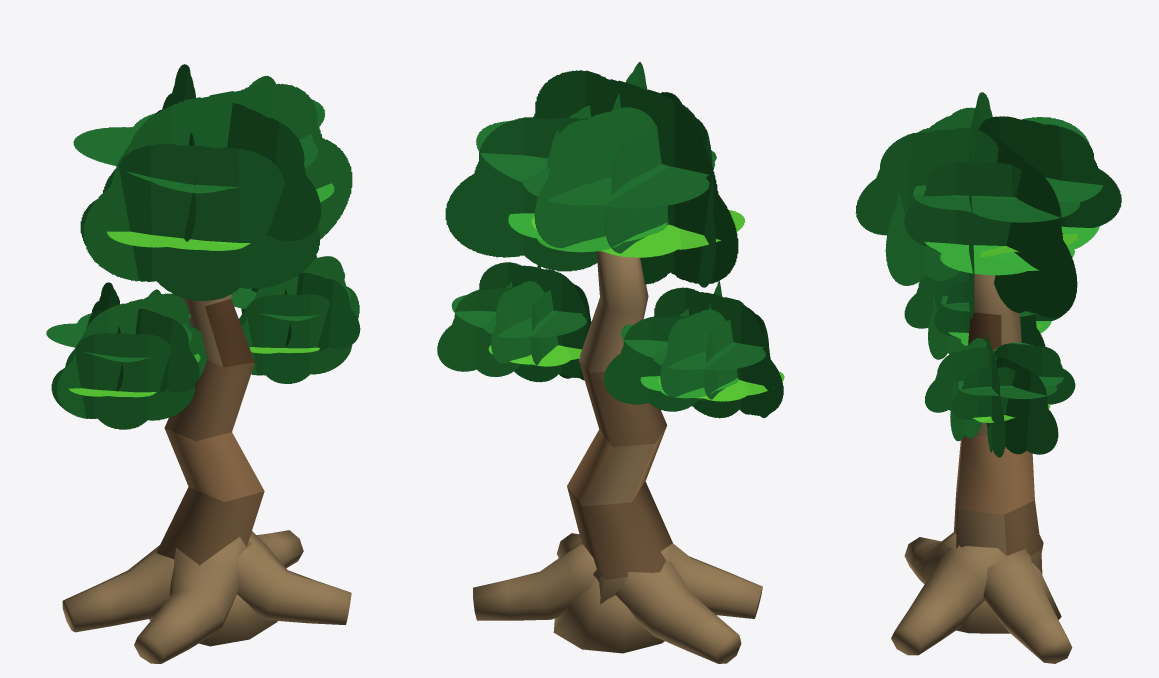
The model's file is TREE_EUCALYPTUS_001_v015_LOD_MAP.glb.
3 views of the same model, side by side, from view 1: azimuth 30°, elevation 25°; view 2: azimuth 150°, elevation 25°; view 3: azimuth 270°, elevation 25° (orthographic). The views are drawn at different scales.
Parts seen in each view (by area): view 1: TREE_EUCALYPTUS_001_MAP_AUTHORED_FOLIAGE_ISLANDS, TREE_EUCALYPTUS_001_MAP_MAIN_TRUNK, TREE_EUCALYPTUS_001_MAP_ROOT_FRONT_LEFT, TREE_EUCALYPTUS_001_MAP_ROOT_FRONT_RIGHT, TREE_EUCALYPTUS_001_MAP_ROOT_LONG_LEFT, TREE_EUCALYPTUS_001_MAP_SCULPTED_ROOT_COLLAR, TREE_EUCALYPTUS_001_MAP_ROOT_RIGHT_SIDE; view 2: TREE_EUCALYPTUS_001_MAP_AUTHORED_FOLIAGE_ISLANDS, TREE_EUCALYPTUS_001_MAP_MAIN_TRUNK, TREE_EUCALYPTUS_001_MAP_ROOT_LONG_LEFT, TREE_EUCALYPTUS_001_MAP_ROOT_RIGHT_SIDE, TREE_EUCALYPTUS_001_MAP_SCULPTED_ROOT_COLLAR, TREE_EUCALYPTUS_001_MAP_ROOT_FRONT_LEFT; view 3: TREE_EUCALYPTUS_001_MAP_AUTHORED_FOLIAGE_ISLANDS, TREE_EUCALYPTUS_001_MAP_MAIN_TRUNK, TREE_EUCALYPTUS_001_MAP_ROOT_FRONT_RIGHT, TREE_EUCALYPTUS_001_MAP_ROOT_RIGHT_SIDE, TREE_EUCALYPTUS_001_MAP_ROOT_FRONT_LEFT, TREE_EUCALYPTUS_001_MAP_SCULPTED_ROOT_COLLAR.
Part boxes in pixels (x1,y1,x2,y2): TREE_EUCALYPTUS_001_MAP_AUTHORED_FOLIAGE_ISLANDS: (46, 64, 360, 429); TREE_EUCALYPTUS_001_MAP_MAIN_TRUNK: (156, 294, 264, 565); TREE_EUCALYPTUS_001_MAP_ROOT_FRONT_LEFT: (134, 537, 251, 663); TREE_EUCALYPTUS_001_MAP_ROOT_FRONT_RIGHT: (237, 531, 351, 624); TREE_EUCALYPTUS_001_MAP_ROOT_LONG_LEFT: (62, 545, 174, 632); TREE_EUCALYPTUS_001_MAP_SCULPTED_ROOT_COLLAR: (149, 594, 277, 646); TREE_EUCALYPTUS_001_MAP_ROOT_RIGHT_SIDE: (256, 530, 303, 568); TREE_EUCALYPTUS_001_MAP_AUTHORED_FOLIAGE_ISLANDS: (437, 62, 784, 418); TREE_EUCALYPTUS_001_MAP_MAIN_TRUNK: (567, 251, 672, 604); TREE_EUCALYPTUS_001_MAP_ROOT_LONG_LEFT: (593, 560, 741, 663); TREE_EUCALYPTUS_001_MAP_ROOT_RIGHT_SIDE: (473, 543, 597, 620); TREE_EUCALYPTUS_001_MAP_SCULPTED_ROOT_COLLAR: (553, 579, 664, 653); TREE_EUCALYPTUS_001_MAP_ROOT_FRONT_LEFT: (660, 543, 762, 618); TREE_EUCALYPTUS_001_MAP_AUTHORED_FOLIAGE_ISLANDS: (855, 92, 1121, 457); TREE_EUCALYPTUS_001_MAP_MAIN_TRUNK: (954, 274, 1042, 574); TREE_EUCALYPTUS_001_MAP_ROOT_FRONT_RIGHT: (891, 546, 1009, 655); TREE_EUCALYPTUS_001_MAP_ROOT_RIGHT_SIDE: (983, 549, 1072, 663); TREE_EUCALYPTUS_001_MAP_ROOT_FRONT_LEFT: (904, 532, 961, 583); TREE_EUCALYPTUS_001_MAP_SCULPTED_ROOT_COLLAR: (956, 563, 1061, 633).
Size of the model in its own units: 4.08 by 6.57 by 3.3.
Materials: 5 (1 with a texture image).
